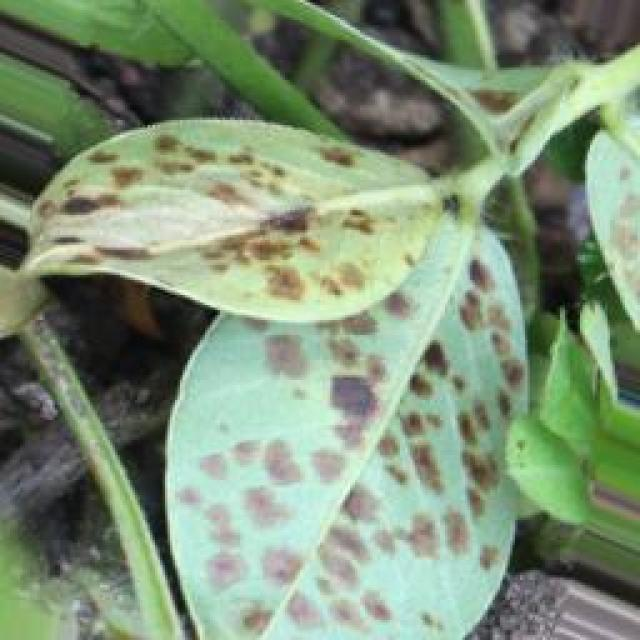Whitefly: (177, 237, 533, 628), (44, 44, 435, 368)
